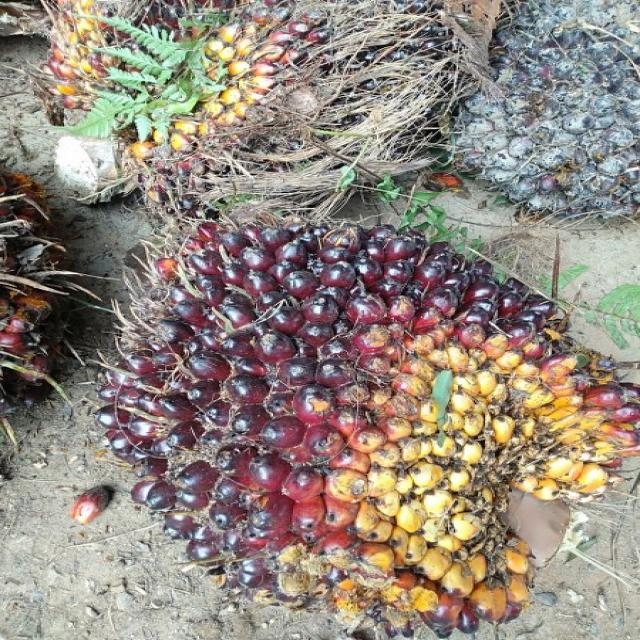fraksi 1: (98, 219, 640, 640)
